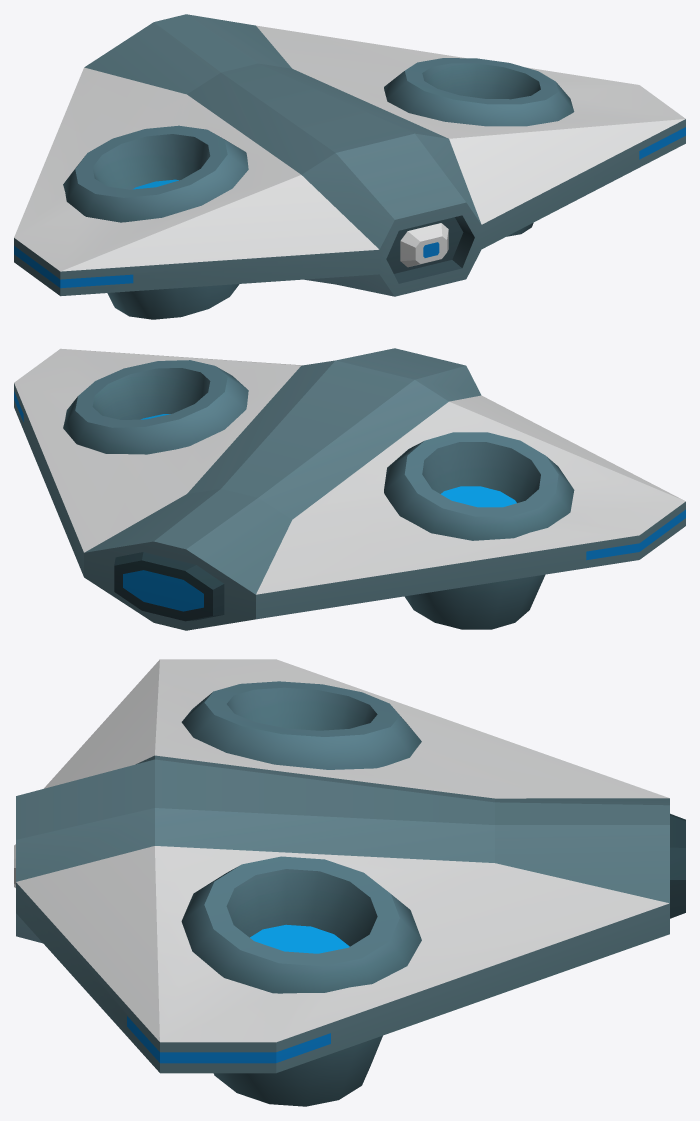
File: Drone_011.fbx
The picture shows the model from 3 angles, top to bottom: view 1: azimuth 30°, elevation 25°; view 2: azimuth 150°, elevation 25°; view 3: azimuth 270°, elevation 25°; orthographic projection. The views are drawn at different scales.
Visible parts, largest first — view 1: Drone_011; view 2: Drone_011; view 3: Drone_011.
Part boxes in pixels (x1,y1,x2,y2): Drone_011: [14, 14, 685, 319]; Drone_011: [14, 348, 685, 630]; Drone_011: [14, 659, 685, 1106].
Bounding box in the file's own units: 75.96 × 56.33 × 18.54.
